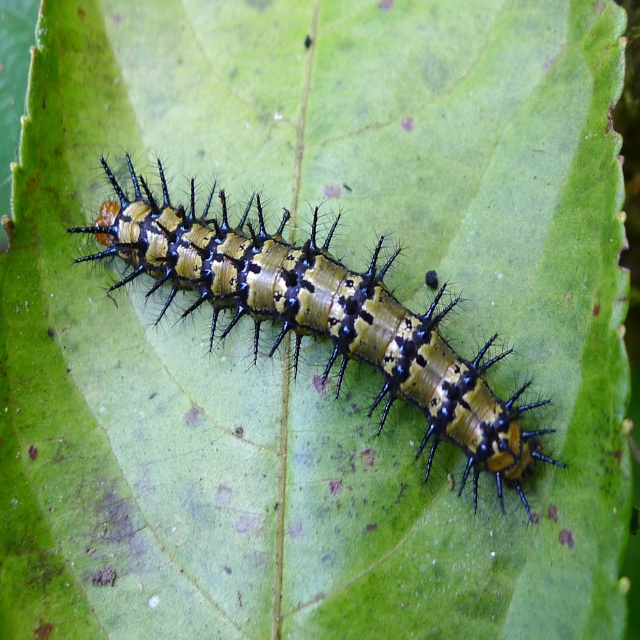Caterpillar: (63, 143, 574, 520)
